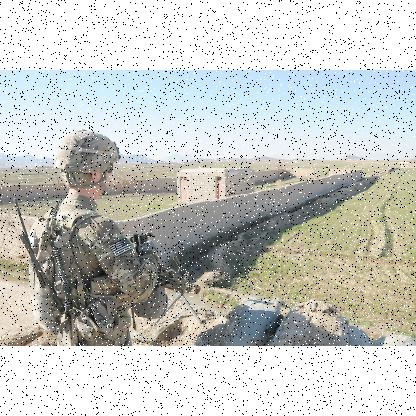gun: (127, 232, 203, 320)
